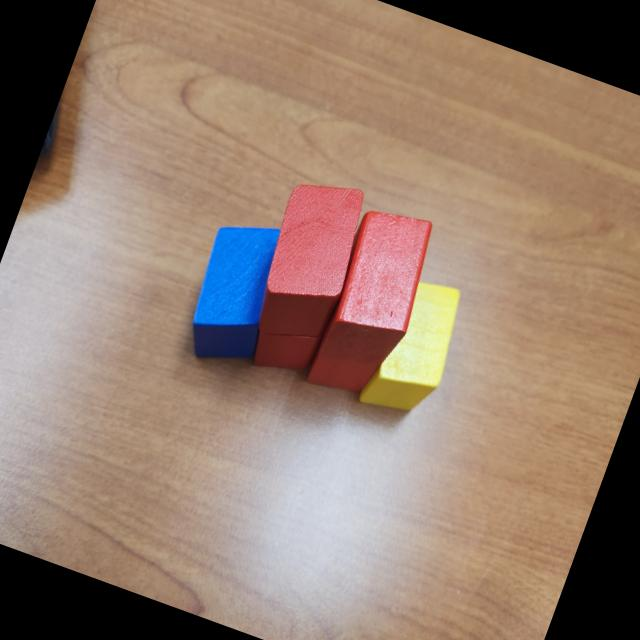blue: (173, 210, 299, 378)
red: (242, 167, 378, 356), (311, 198, 444, 380), (247, 313, 324, 385), (304, 342, 379, 403)
yellow: (357, 270, 473, 428)
